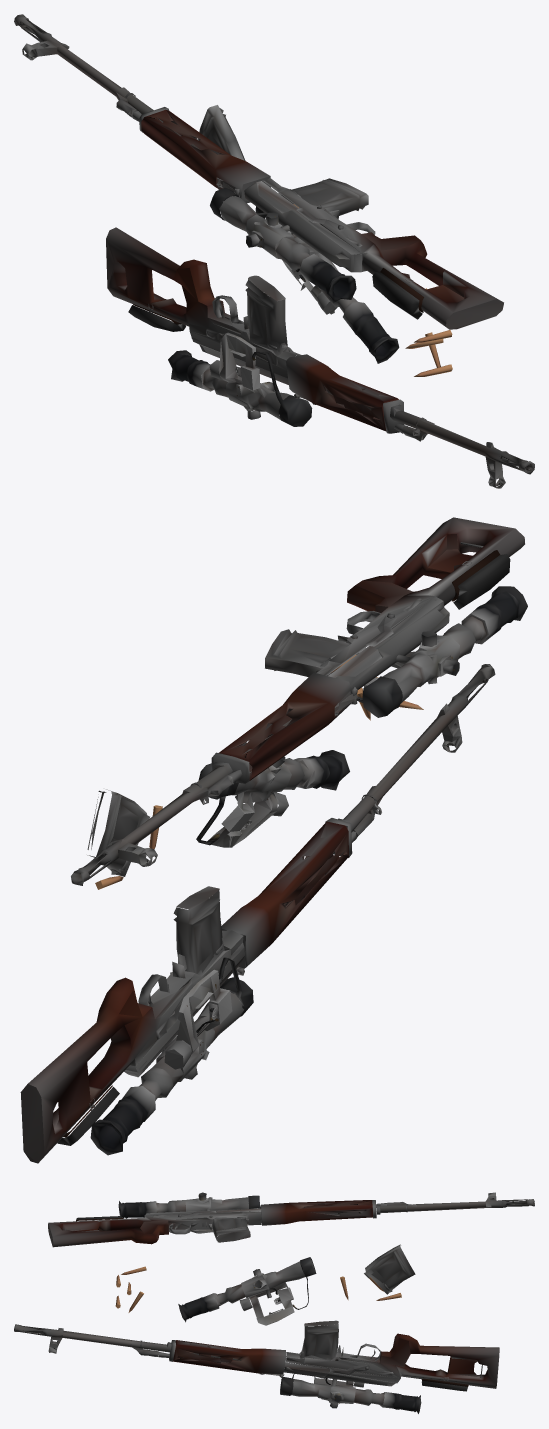
Rendered from svd_63_-_dragunov.glb.
3 renders of one model, top to bottom at view 1: azimuth 30°, elevation 25°; view 2: azimuth 150°, elevation 25°; view 3: azimuth 270°, elevation 25°, orthographic. The views are drawn at different scales.
Parts seen in each view (by area): view 1: gun_svd_63_-_dragunov; view 2: gun_svd_63_-_dragunov; view 3: gun_svd_63_-_dragunov.
Boxes of the visible parts, x1,y1,x2,y2 form: gun_svd_63_-_dragunov: (14, 14, 534, 488); gun_svd_63_-_dragunov: (20, 517, 527, 1163); gun_svd_63_-_dragunov: (14, 1192, 534, 1413).
Size of the model in its own units: 0.1825 by 0.4126 by 1.
